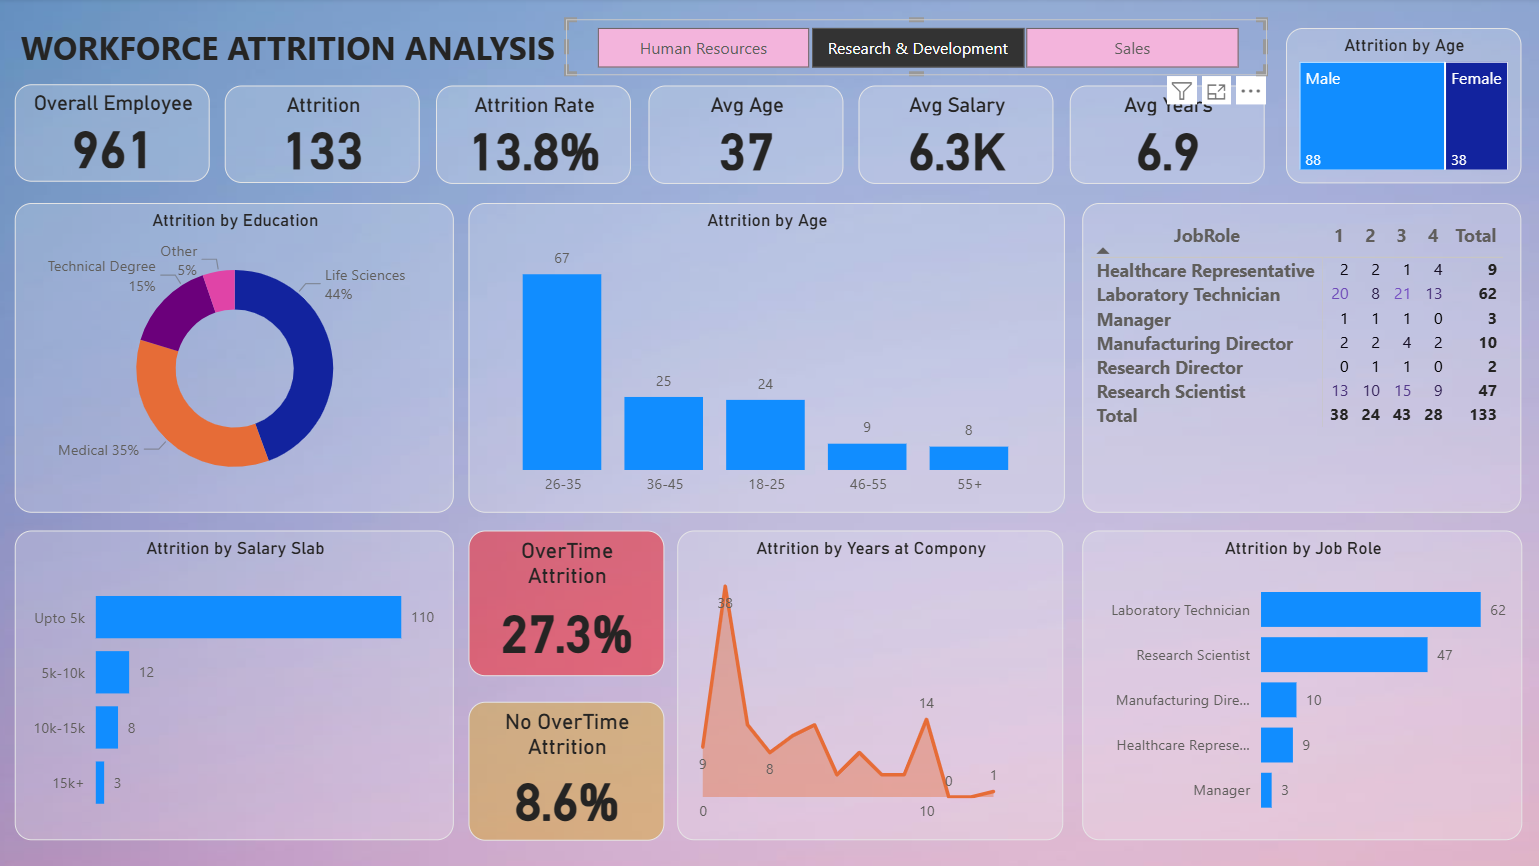

The page's visual inventory and layout, read from the dashboard file:
{"tool":"powerbi","page":{"name":"Page 1","canvas":[1280,720],"ordinal":0},"visuals":[{"type":"card","title":"Overall Employee","fields":{"Values":["Count(HR_Analytics.EmpID)"]},"box":[15.8,71.6,161.9,81],"z":0},{"type":"card","title":"Attrition","fields":{"Values":["Sum(HR_Analytics.Attrition Count)"]},"box":[190.1,72.9,161.9,81],"z":1000},{"type":"card","title":"Attrition Rate","fields":{"Values":["HR_Analytics.AttritionRate"]},"box":[365,72.7,161.9,81.2],"z":2000},{"type":"card","title":"Avg Age","fields":{"Values":["Avg(HR_Analytics.Age)"]},"box":[540.6,72.7,161.9,81.2],"z":3000},{"type":"card","title":"Avg Salary","fields":{"Values":["Avg(HR_Analytics.MonthlyIncome)"]},"box":[715,72.7,161.9,81.2],"z":4000},{"type":"card","title":"Avg Years","fields":{"Values":["Avg(HR_Analytics.YearsAtCompany)"]},"box":[890,72.7,161.9,81.2],"z":5000},{"type":"donutChart","title":"Attrition by Education","fields":{"Category":["HR_Analytics.EducationField"],"Y":["Sum(HR_Analytics.Attrition Count)"]},"box":[15.7,170,364.3,257.1],"z":6000},{"type":"columnChart","title":"Attrition by Age","fields":{"Category":["HR_Analytics.AgeGroup"],"Y":["Sum(HR_Analytics.Attrition Count)"]},"box":[391.4,170,494.3,257.1],"z":7000},{"type":"pivotTable","fields":{"Rows":["HR_Analytics.JobRole"],"Columns":["HR_Analytics.JobSatisfaction"],"Values":["Sum(HR_Analytics.Attrition Count)"]},"box":[900.2,170.2,363.6,256.6],"z":8000},{"type":"barChart","title":"Attrition by Salary Slab","fields":{"Category":["HR_Analytics.SalarySlab"],"Y":["Sum(HR_Analytics.Attrition Count)"]},"box":[15.7,441.4,364.3,257.1],"z":9000},{"type":"clusteredBarChart","title":"Attrition by Job Role","fields":{"Category":["HR_Analytics.JobRole"],"Y":["Sum(HR_Analytics.Attrition Count)"]},"box":[900.2,441.9,365,256.6],"z":10000},{"type":"areaChart","title":"Attrition by Years at Compony","fields":{"Category":["HR_Analytics.YearsAtCompany"],"Y":["Sum(HR_Analytics.Attrition Count)"]},"box":[565.1,441.8,320.1,256.7],"z":11000},{"type":"treemap","title":"Attrition by Age","fields":{"Group":["HR_Analytics.Gender"],"Values":["Sum(HR_Analytics.Attrition Count)"]},"box":[1069,24.7,194.9,129],"z":12000},{"type":"slicer","fields":{"Values":["HR_Analytics.Department"]},"box":[472.9,17.1,581.4,47.1],"z":13000},{"type":"textbox","box":[15.7,17.1,464.3,71.4],"z":14000},{"type":"card","title":"No OverTime Attrition","fields":{"Values":["HR_Analytics.Attrition Rate (OverTime No)"]},"box":[391.5,583.1,162.3,115.4],"z":15000},{"type":"card","title":"OverTime  Attrition","fields":{"Values":["HR_Analytics.Attrition Rate (OverTime Yes)"]},"box":[391.5,441.5,162.3,120.8],"z":16000}]}

Visuals, with their boxes in screenshot pixels (x1, y1, x2, y2), scaled from the page's 1280x720 canvas onto the 1539x866 screenshot:
"Overall Employee" card: [19, 86, 214, 184]
"Attrition" card: [229, 88, 423, 185]
"Attrition Rate" card: [439, 87, 634, 185]
"Avg Age" card: [650, 87, 845, 185]
"Avg Salary" card: [860, 87, 1054, 185]
"Avg Years" card: [1070, 87, 1265, 185]
"Attrition by Education" donutChart: [19, 204, 457, 514]
"Attrition by Age" columnChart: [471, 204, 1065, 514]
pivotTable - HR_Analytics.JobRole x HR_Analytics.JobSatisfaction: [1082, 205, 1520, 513]
"Attrition by Salary Slab" barChart: [19, 531, 457, 840]
"Attrition by Job Role" clusteredBarChart: [1082, 532, 1521, 840]
"Attrition by Years at Compony" areaChart: [679, 531, 1064, 840]
"Attrition by Age" treemap: [1285, 30, 1520, 185]
slicer - HR_Analytics.Department: [569, 21, 1268, 77]
textbox: [19, 21, 577, 106]
"No OverTime Attrition" card: [471, 701, 666, 840]
"OverTime  Attrition" card: [471, 531, 666, 676]
